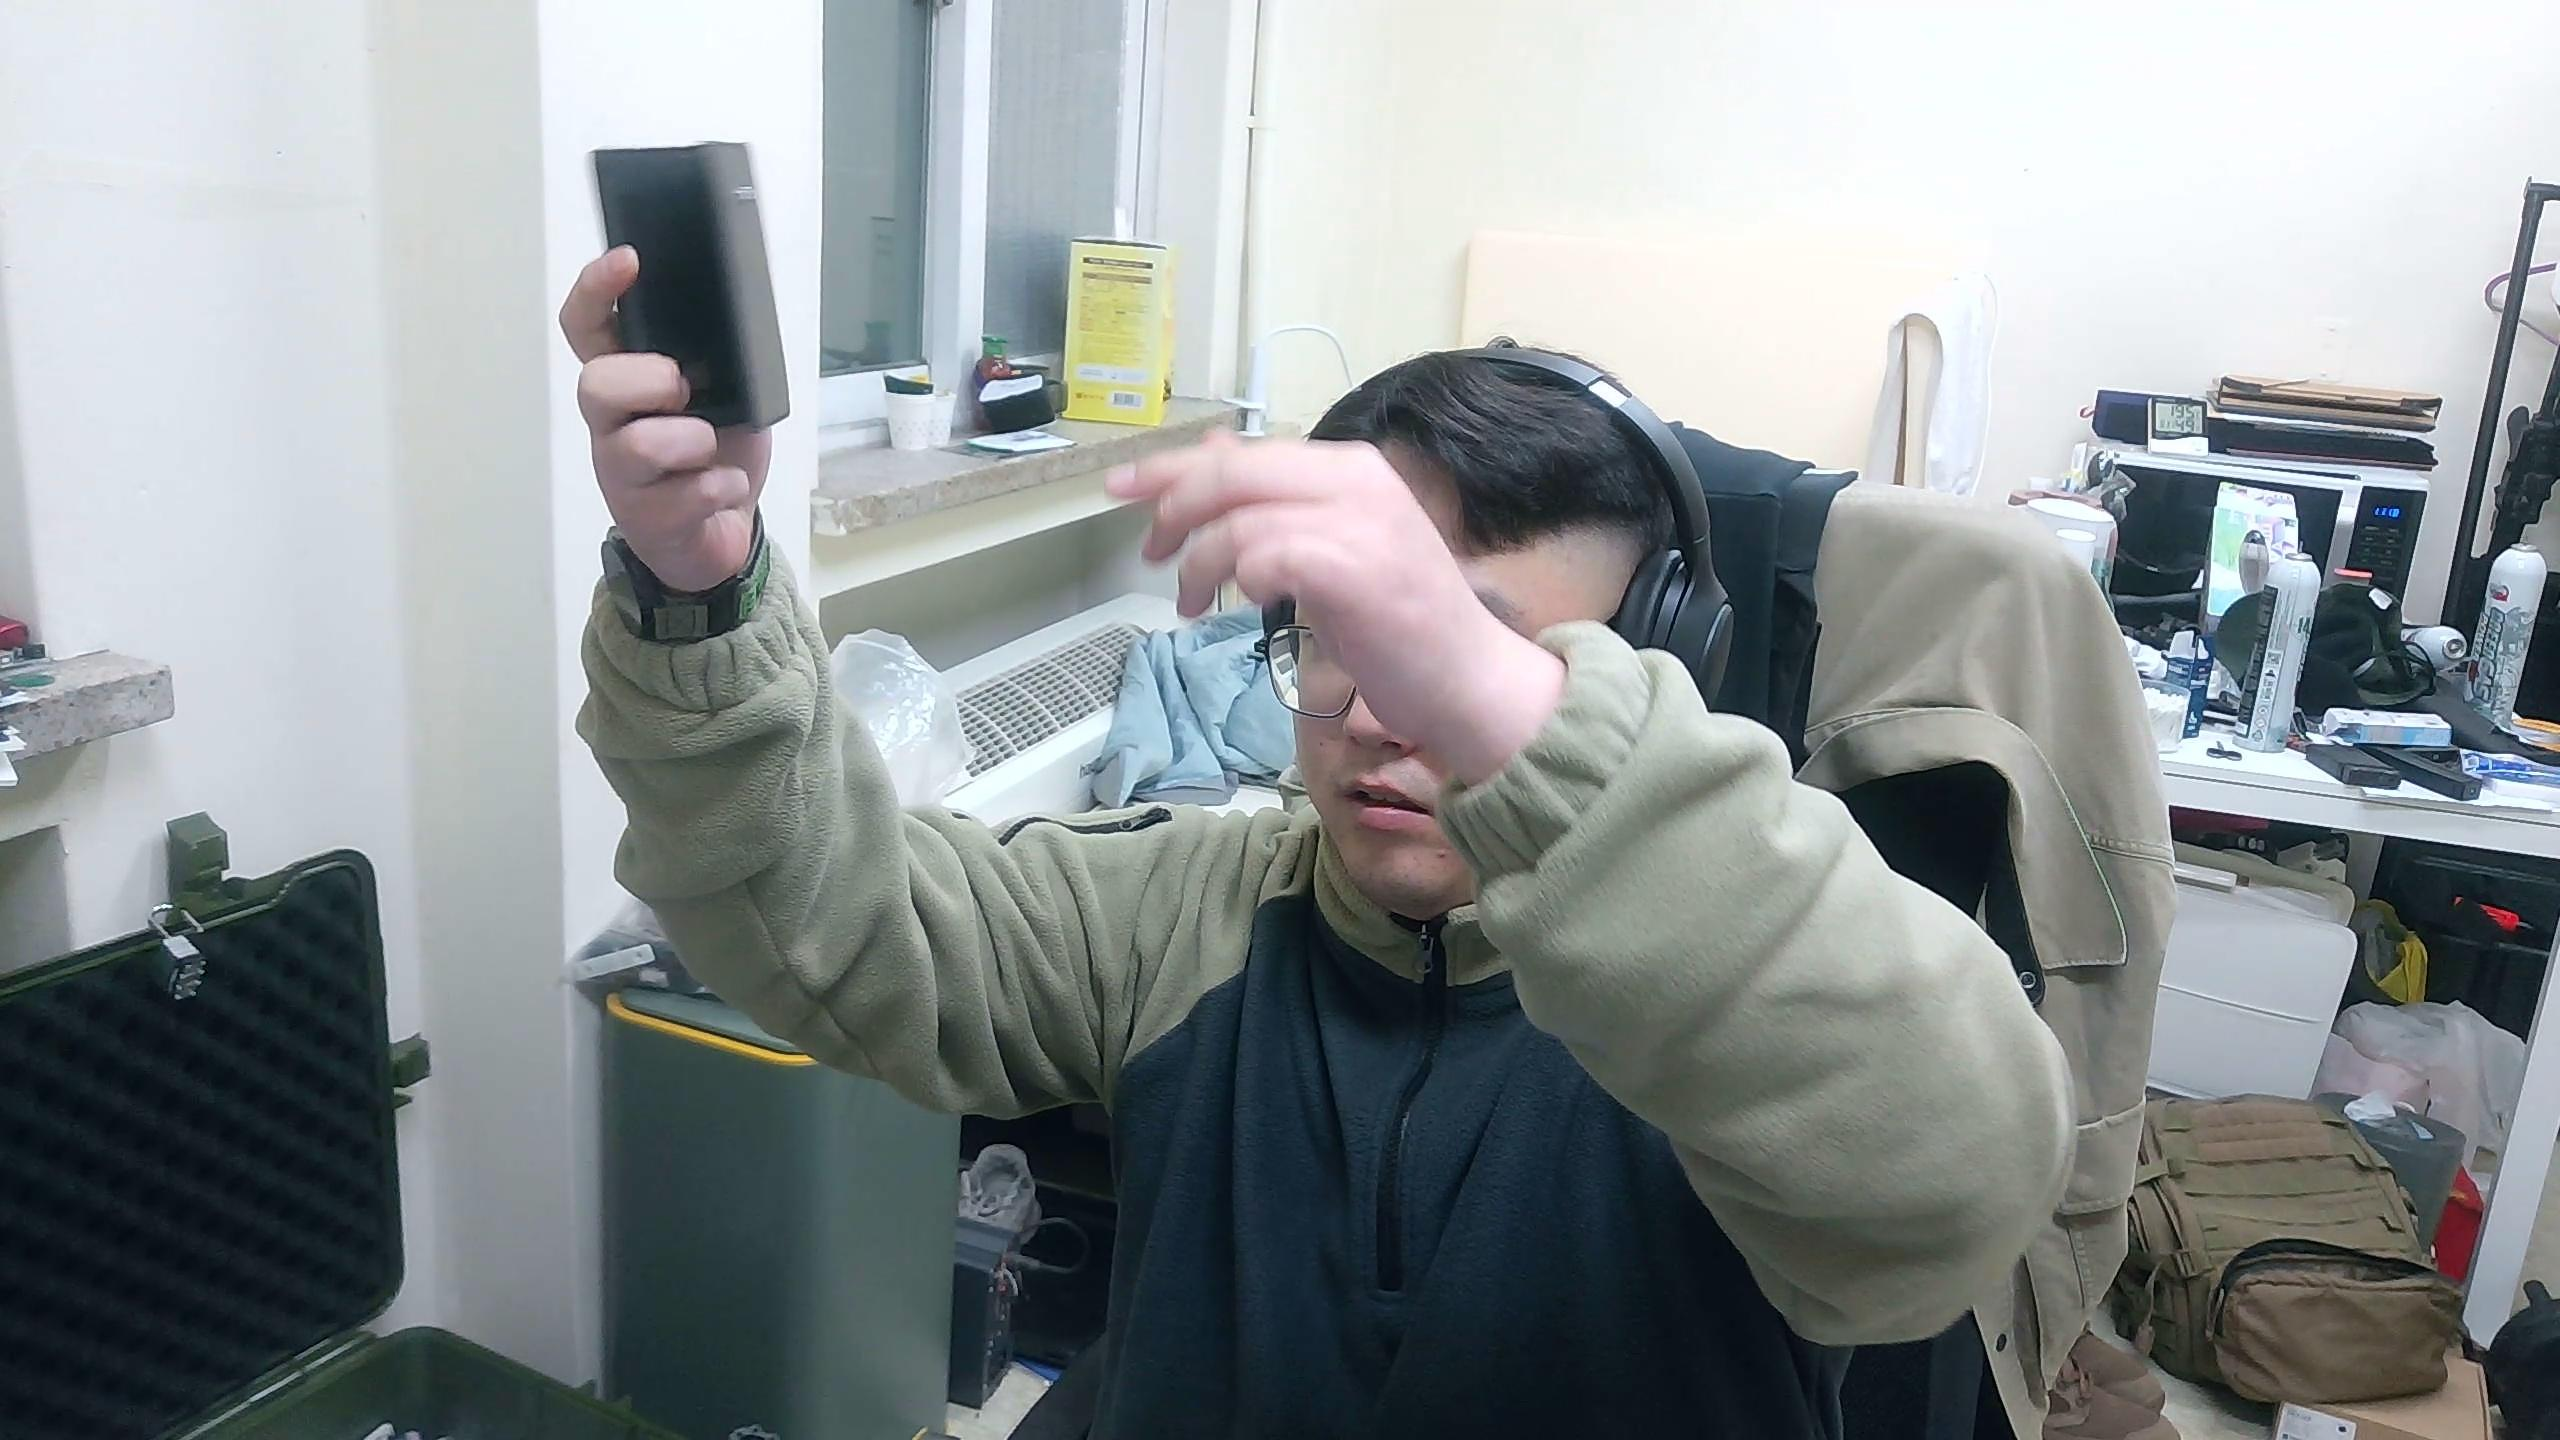Wallet: (593, 137, 795, 434)
